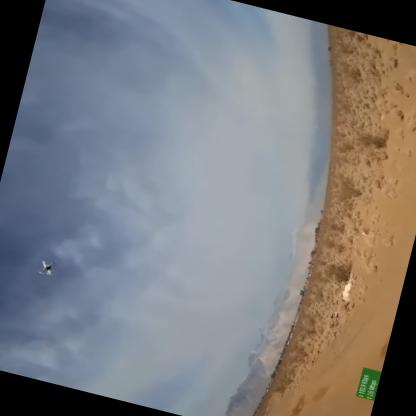drone: (31, 252, 63, 279)
